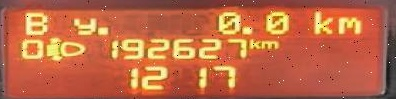-: (239, 23, 253, 33), (98, 24, 112, 34)
0: (264, 10, 290, 35), (216, 9, 237, 35), (18, 37, 44, 58)
1: (193, 64, 207, 92), (125, 64, 139, 91), (108, 37, 119, 61)
2: (141, 64, 168, 91), (198, 37, 221, 61), (146, 36, 168, 59)
6: (171, 36, 195, 60)
7: (210, 64, 236, 91), (225, 36, 248, 60)
9: (121, 36, 144, 58)
X: (23, 10, 47, 34), (311, 9, 333, 34), (71, 17, 95, 36), (337, 15, 360, 33), (260, 40, 280, 49), (249, 36, 260, 49)
